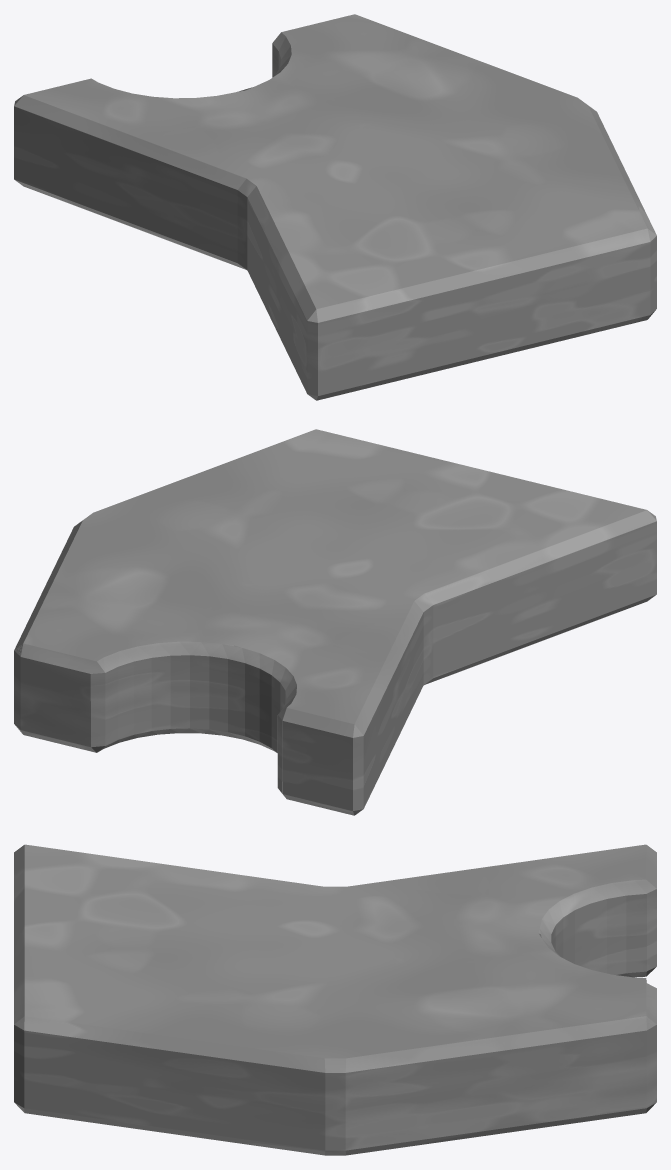
The model's file is NucleotideG.obj.
3 views of the same model, one above another, from view 1: azimuth 30°, elevation 25°; view 2: azimuth 150°, elevation 25°; view 3: azimuth 270°, elevation 25° (orthographic). The views are drawn at different scales.
Visible parts, largest first — view 1: G_Nucleotide_Cube.006; view 2: G_Nucleotide_Cube.006; view 3: G_Nucleotide_Cube.006.
Part boxes in pixels (x1,y1,x2,y2): G_Nucleotide_Cube.006: (14,14,656,400); G_Nucleotide_Cube.006: (14,429,656,815); G_Nucleotide_Cube.006: (14,844,656,1155).
Size of the model in its own units: 31.17 by 6.31 by 37.89.
